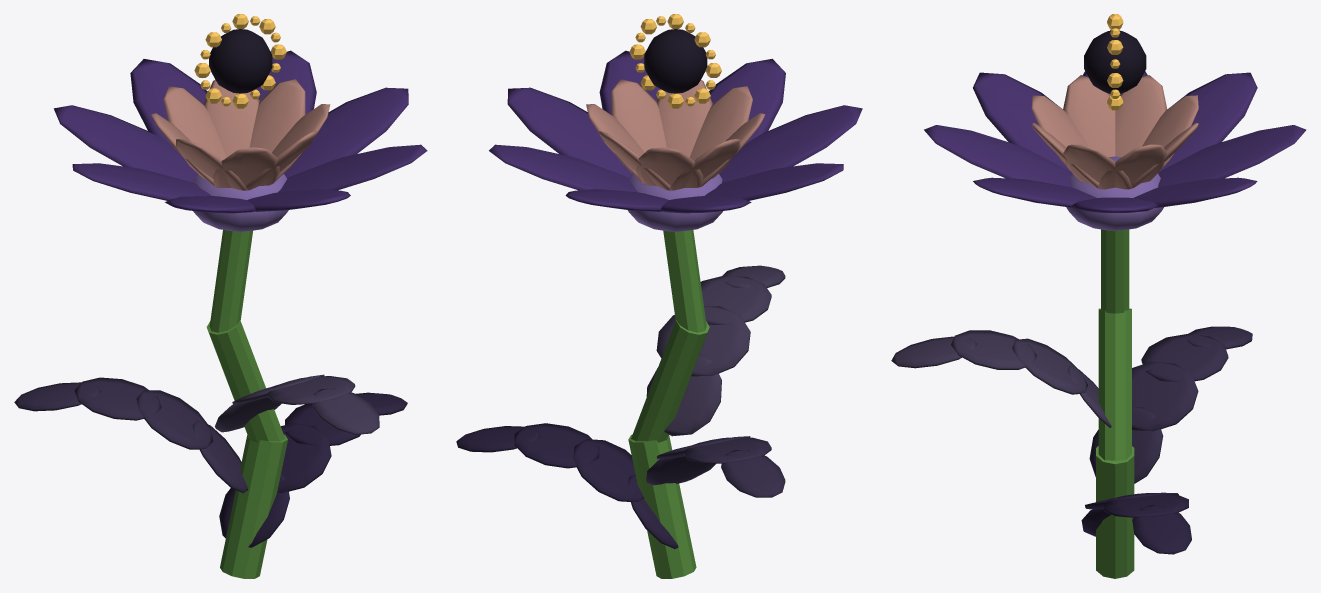
Rendered from Planta_EclipseBloom.fbx.
3 views of the same model, side by side, from view 1: azimuth 30°, elevation 25°; view 2: azimuth 150°, elevation 25°; view 3: azimuth 270°, elevation 25° (orthographic).
Visible parts, largest first — view 1: Corpo_EclipseBloom, Brilho_EclipseBloom; view 2: Corpo_EclipseBloom, Brilho_EclipseBloom; view 3: Corpo_EclipseBloom, Brilho_EclipseBloom.
Boxes of the visible parts, x1,y1,x2,y2 form: Corpo_EclipseBloom: (14, 29, 427, 578); Brilho_EclipseBloom: (194, 14, 286, 108); Corpo_EclipseBloom: (456, 29, 862, 578); Brilho_EclipseBloom: (629, 14, 721, 108); Corpo_EclipseBloom: (891, 30, 1306, 578); Brilho_EclipseBloom: (1107, 14, 1123, 110).
Bounding box in the file's own units: 3.03 × 4.54 × 3.08.
1 material, 1 textured.
